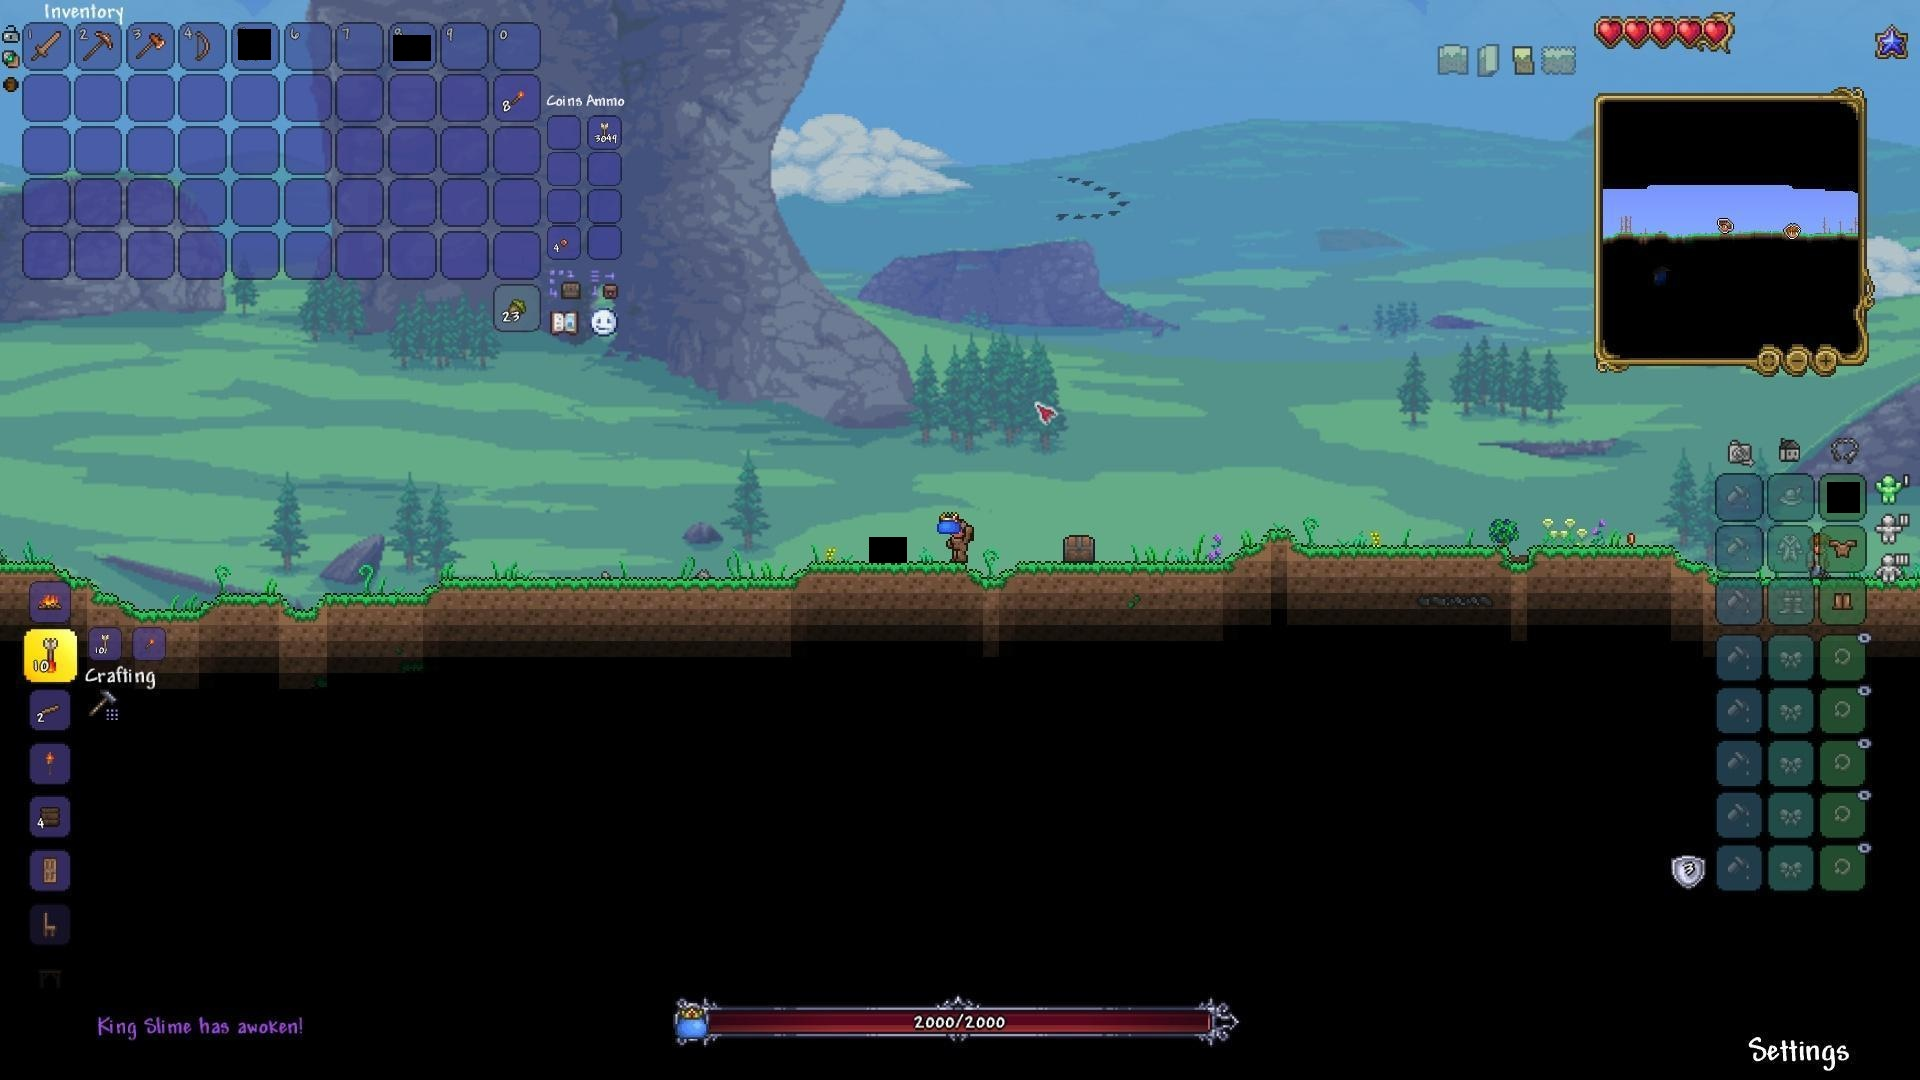breastplate: (1829, 539, 1858, 559)
legs: (1832, 589, 1857, 617)
